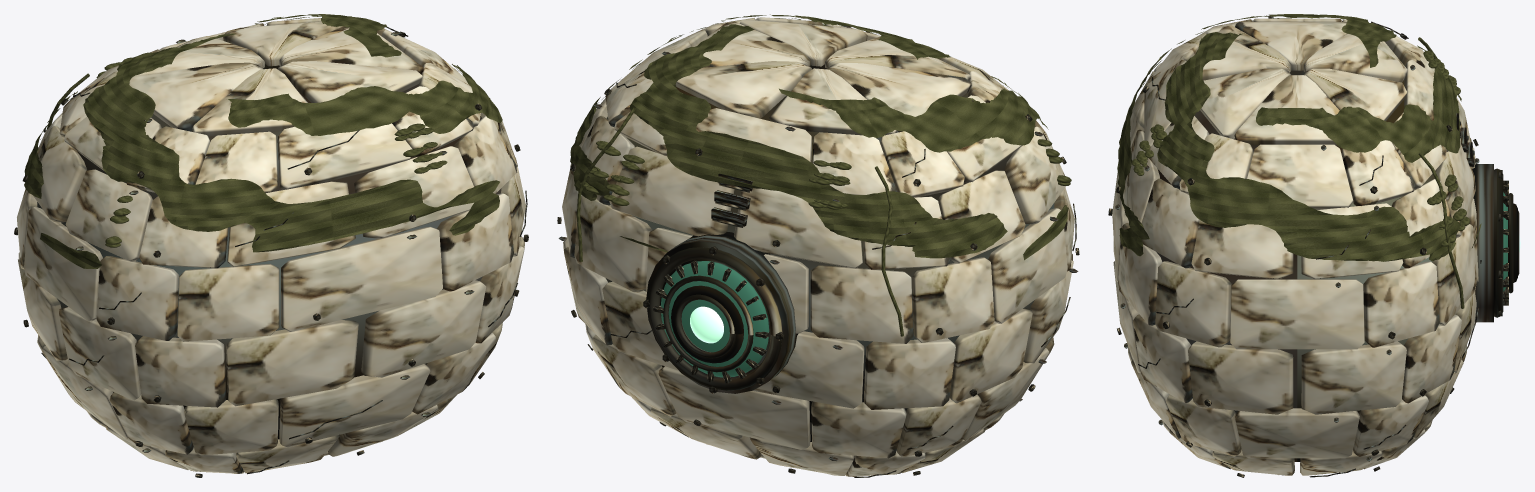
Rendered from body-rootwalker-v3.glb.
3 renders of one model, left to right at view 1: azimuth 30°, elevation 25°; view 2: azimuth 150°, elevation 25°; view 3: azimuth 270°, elevation 25°, orthographic. The views are drawn at different scales.
Parts seen in each view (by area): view 1: rootwalker-ceramic, rootwalker-moss, rootwalker-steel, rootwalker-brass; view 2: rootwalker-ceramic, rootwalker-moss, rootwalker-steel, rootwalker-brass, rootwalker-glass, rootwalker-light; view 3: rootwalker-ceramic, rootwalker-moss, rootwalker-steel, rootwalker-brass.
Boxes of the visible parts, bbox=[...] form: rootwalker-ceramic: bbox=[17, 18, 525, 473]; rootwalker-moss: bbox=[24, 14, 502, 268]; rootwalker-steel: bbox=[37, 27, 527, 474]; rootwalker-brass: bbox=[14, 31, 528, 477]; rootwalker-ceramic: bbox=[562, 17, 1074, 476]; rootwalker-moss: bbox=[570, 14, 1071, 336]; rootwalker-steel: bbox=[558, 25, 1078, 477]; rootwalker-brass: bbox=[557, 88, 1079, 475]; rootwalker-glass: bbox=[660, 261, 769, 377]; rootwalker-light: bbox=[690, 306, 723, 343]; rootwalker-ceramic: bbox=[1112, 18, 1478, 475]; rootwalker-moss: bbox=[1117, 14, 1481, 308]; rootwalker-steel: bbox=[1115, 14, 1517, 477]; rootwalker-brass: bbox=[1108, 33, 1519, 477].
Bounding box in the file's own units: 1.45 × 1.18 × 1.21.
Materials: 6 (4 with a texture image).
